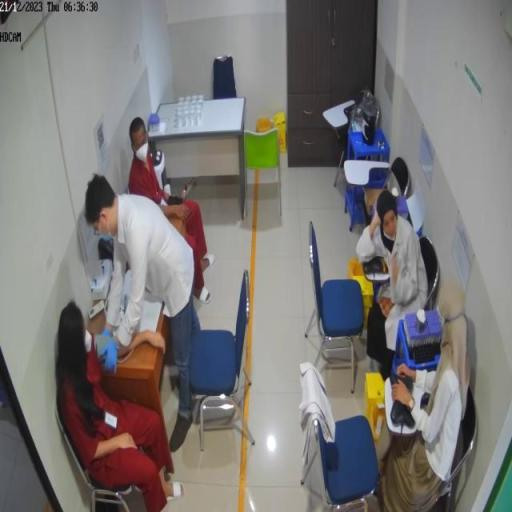person: (86, 176, 201, 455), (56, 300, 184, 512), (384, 282, 471, 511), (128, 118, 213, 305), (358, 191, 430, 367)
